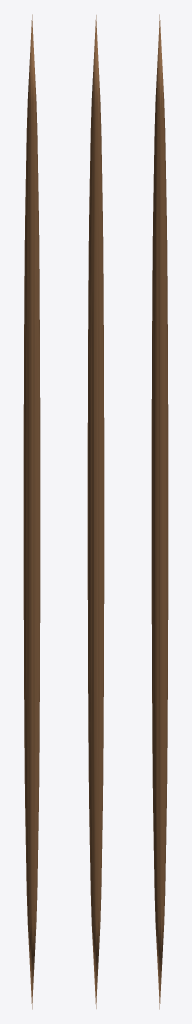
File: asset-staff.glb
3 renders of one model, left to right at view 1: azimuth 90°, elevation 25°; view 2: azimuth 210°, elevation 25°; view 3: azimuth 270°, elevation 25°, orthographic.
Parts seen in each view (by area): view 1: Han envoy staff illustrative only; view 2: Han envoy staff illustrative only; view 3: Han envoy staff illustrative only.
Boxes of the visible parts, x1,y1,x2,y2 form: Han envoy staff illustrative only: (23,14,40,1009); Han envoy staff illustrative only: (87,15,104,1008); Han envoy staff illustrative only: (151,14,168,1009).
Size of the model in its own units: 0.0226 by 1.49 by 0.0228.
